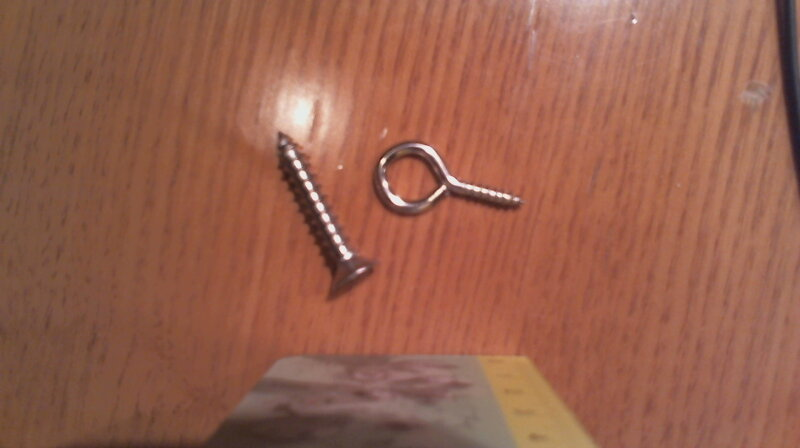O001: (368, 137, 527, 217)
S001: (270, 129, 381, 300)
